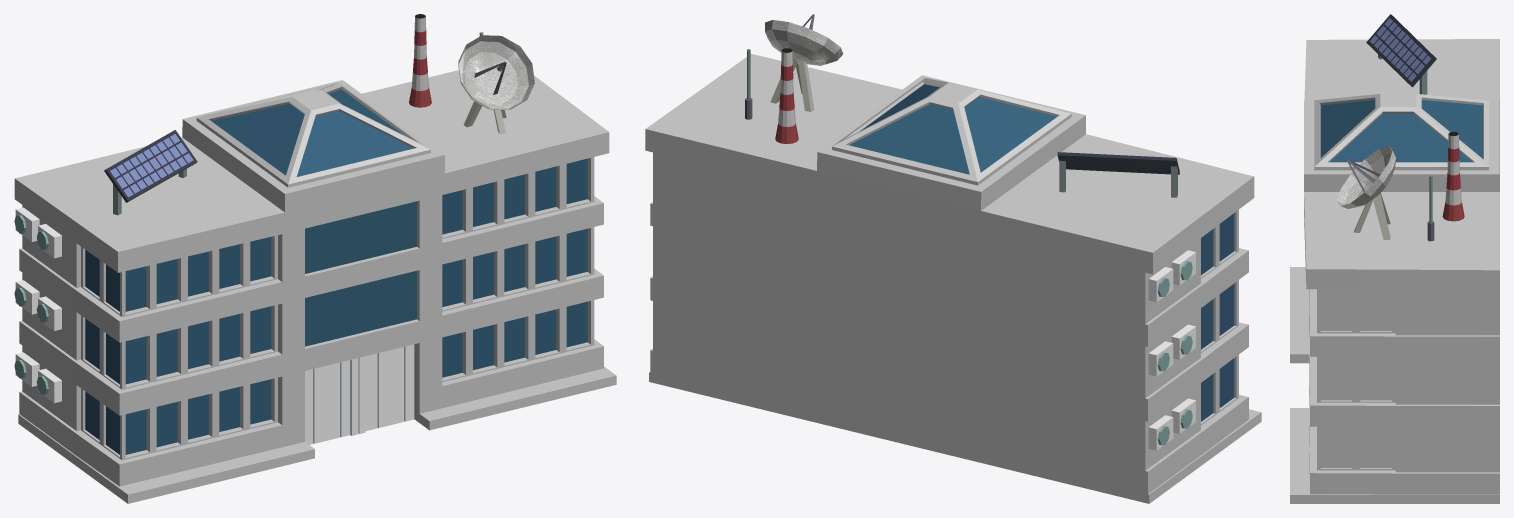
File: Lab.fbx
3 renders of one model, left to right at view 1: azimuth 30°, elevation 25°; view 2: azimuth 150°, elevation 25°; view 3: azimuth 270°, elevation 25°, orthographic. The views are drawn at different scales.
Parts seen in each view (by area): view 1: Cube.072, Cube.090, Sphere, Cube.089, Cylinder.018; view 2: Cube.072, Sphere, Cube.089, Cylinder.018; view 3: Cube.072, Sphere, Cube.089, Cylinder.018, Cylinder.019.
Boxes of the visible parts, x1,y1,x2,y2 form: Cube.072: (14,70,616,503); Cube.090: (305,344,414,444); Sphere: (458,35,534,133); Cube.089: (104,130,197,215); Cylinder.018: (409,14,431,107); Cube.072: (645,53,1261,503); Sphere: (765,14,843,111); Cube.089: (1057,152,1179,197); Cylinder.018: (775,48,798,143); Cube.072: (1290,39,1499,503); Sphere: (1337,145,1396,239); Cube.089: (1366,14,1436,94); Cylinder.018: (1442,131,1464,221); Cylinder.019: (1427,175,1434,241).
Bounding box in the file's own units: 4986 × 3177 × 1899.
